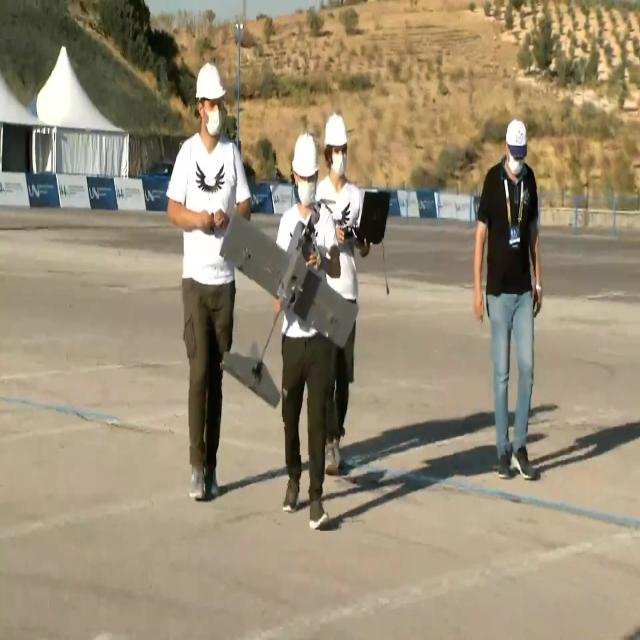iha: (222, 201, 357, 412)
